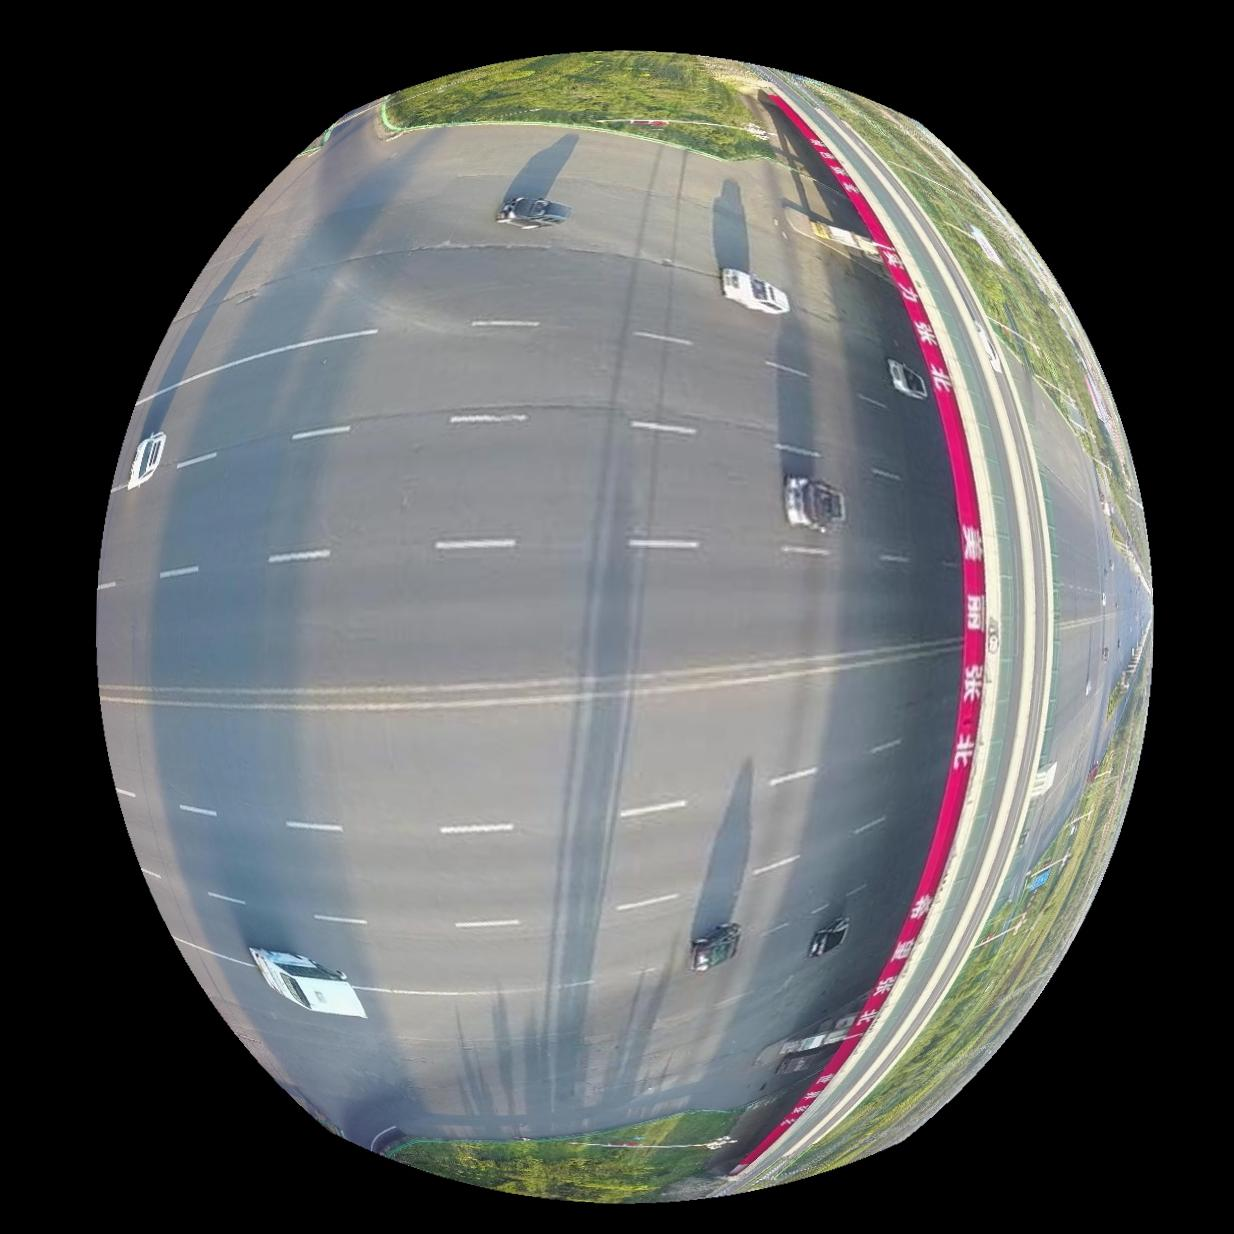cars: (247, 949, 363, 1018), (783, 475, 845, 533), (719, 267, 788, 314), (688, 924, 740, 974), (494, 195, 570, 227), (808, 916, 850, 959), (887, 359, 927, 397)
